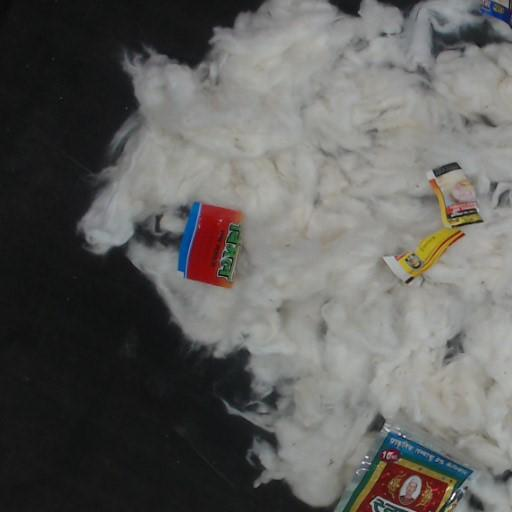conveyor belt: (0, 0, 325, 511)
cotton: (77, 0, 511, 511)
packet: (383, 163, 482, 283), (341, 423, 473, 511), (178, 202, 240, 287)
